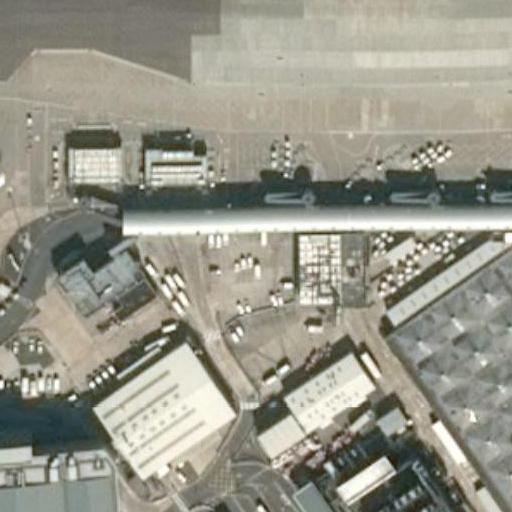Aircraft: (0, 104, 6, 313)
